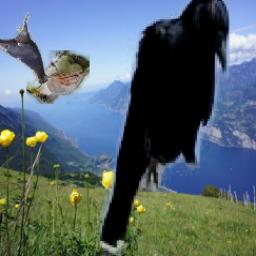Crow: (100, 0, 231, 256), (0, 11, 54, 84)
Cuckoo: (26, 50, 90, 104)
